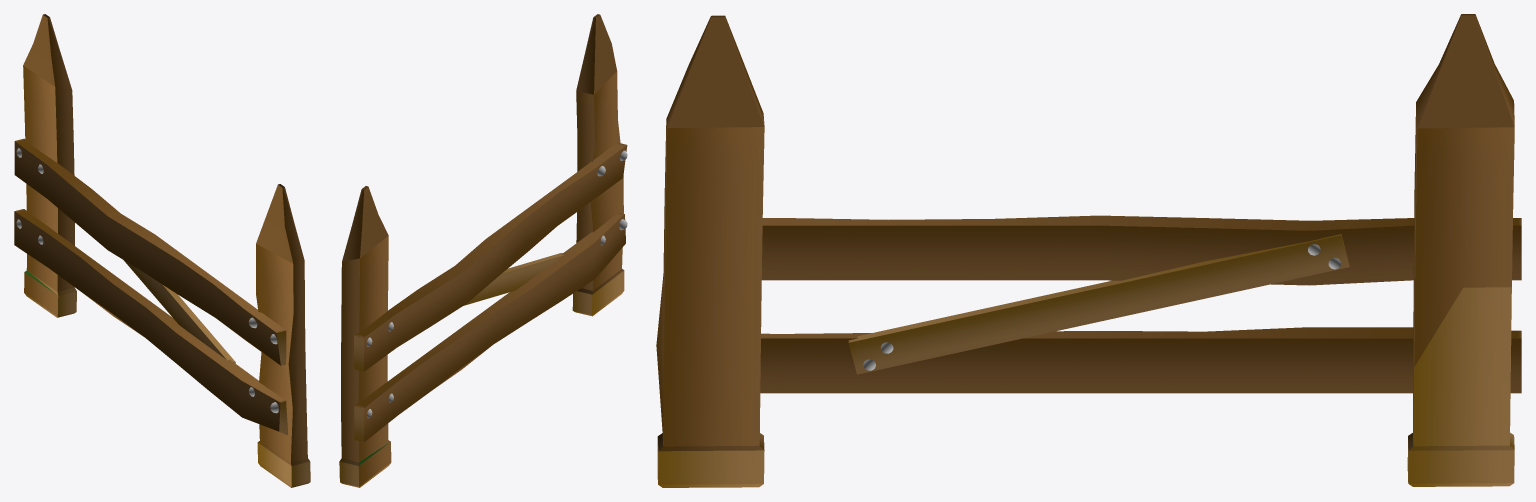
File: fence.FBX
The picture shows the model from 3 angles, left to right: view 1: azimuth 30°, elevation 25°; view 2: azimuth 150°, elevation 25°; view 3: azimuth 270°, elevation 25°; orthographic projection. The views are drawn at different scales.
Parts seen in each view (by area): view 1: fence; view 2: fence; view 3: fence.
Boxes of the visible parts, x1=… form: fence: x1=14, y1=14, x2=310, y2=487; fence: x1=339, y1=14, x2=627, y2=487; fence: x1=656, y1=14, x2=1521, y2=487.
Size of the model in its own units: 10.16 by 84.76 by 143.
4 materials, 4 textured.
